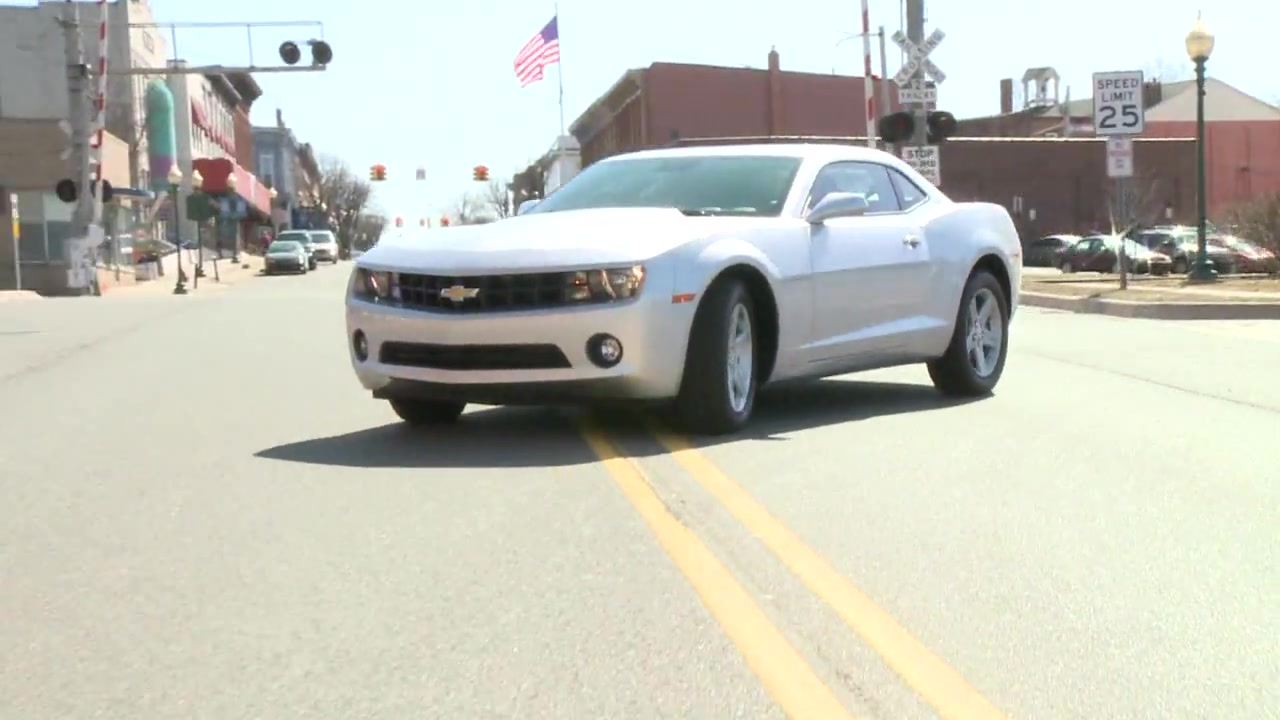car: (340, 140, 1028, 432)
